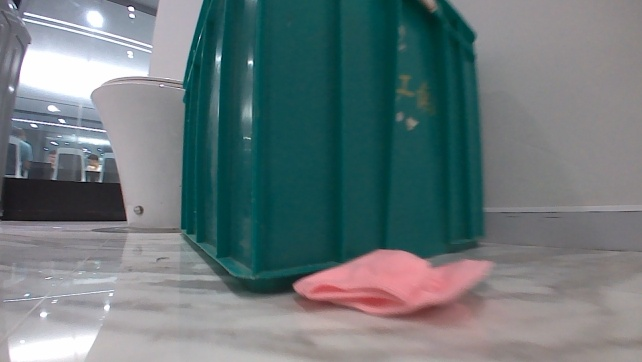socks: (291, 246, 492, 320)
toilet: (88, 73, 186, 235)
